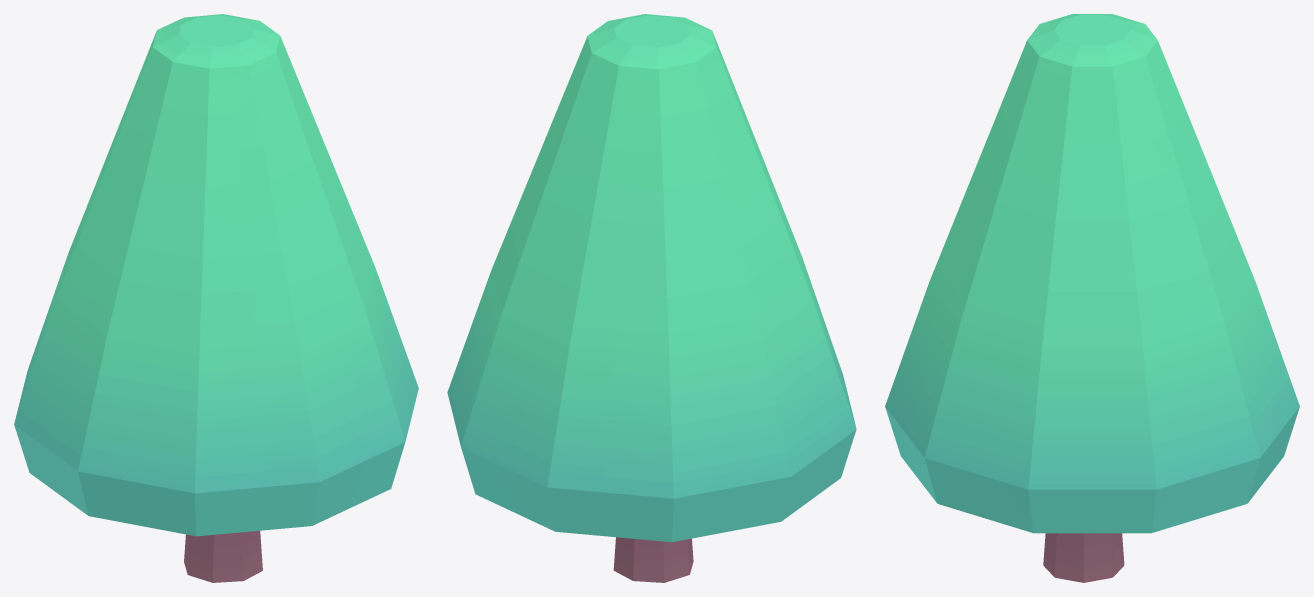
Rendered from bush1.glb.
The picture shows the model from 3 angles, left to right: view 1: azimuth 30°, elevation 25°; view 2: azimuth 150°, elevation 25°; view 3: azimuth 270°, elevation 25°; orthographic projection.
Parts seen in each view (by area): view 1: bush.005; view 2: bush.005; view 3: bush.005.
Boxes of the visible parts, x1,y1,x2,y2 form: bush.005: (14,14,418,582); bush.005: (447,14,856,582); bush.005: (885,14,1299,582).
Bounding box in the file's own units: 0.5689 × 0.8492 × 0.5982.
1 material, 1 textured.
